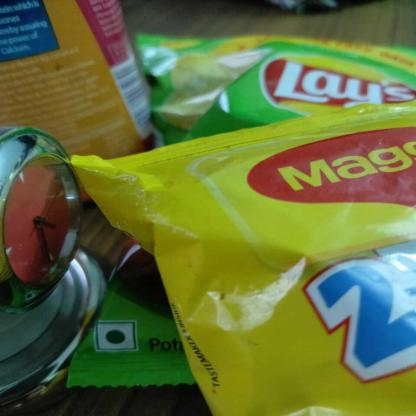cream_and_onion: (129, 33, 415, 108)
